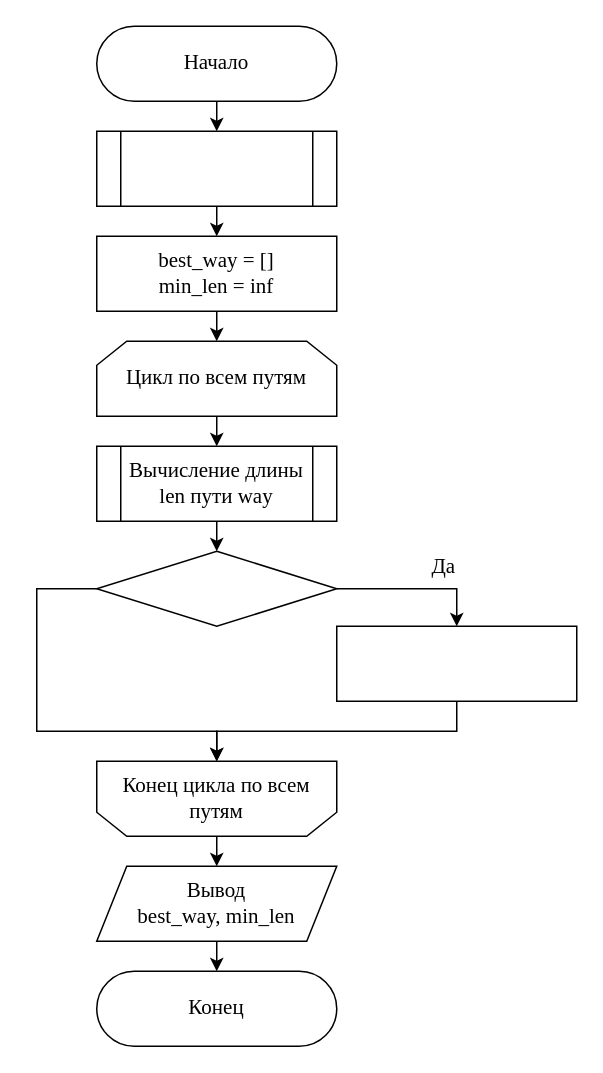
Image size: 603x1073. Some labels were removed from this diagram. Each missing label, with the box of its shape:
best_way = way min_len = len: (335, 625, 577, 701)
len < min_len?: (95, 550, 337, 626)
Нахождение всех возможных путей: (95, 130, 337, 206)
